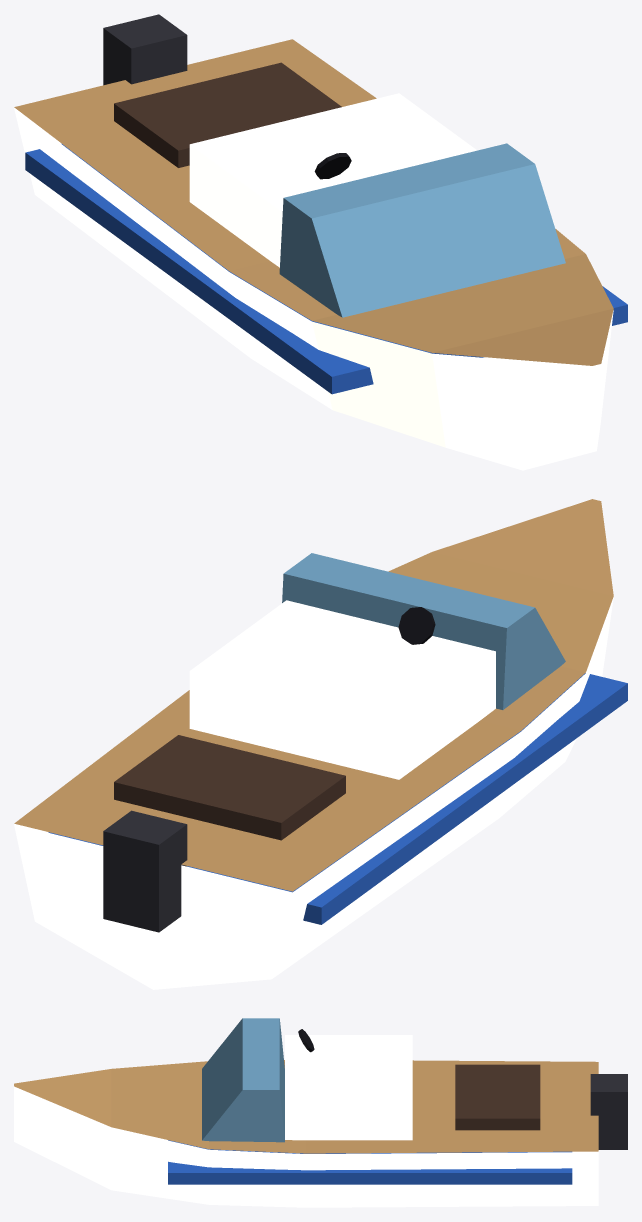
Rendered from motorboat.glb.
3 renders of one model, top to bottom at view 1: azimuth 30°, elevation 25°; view 2: azimuth 150°, elevation 25°; view 3: azimuth 270°, elevation 25°, orthographic. The views are drawn at different scales.
Parts seen in each view (by area): view 1: motorboat; view 2: motorboat; view 3: motorboat.
Boxes of the visible parts, bbox=[...] form: motorboat: bbox=[14, 14, 627, 470]; motorboat: bbox=[14, 499, 627, 989]; motorboat: bbox=[14, 1018, 627, 1207].
Size of the model in its own units: 2.12 by 1.56 by 5.77.
